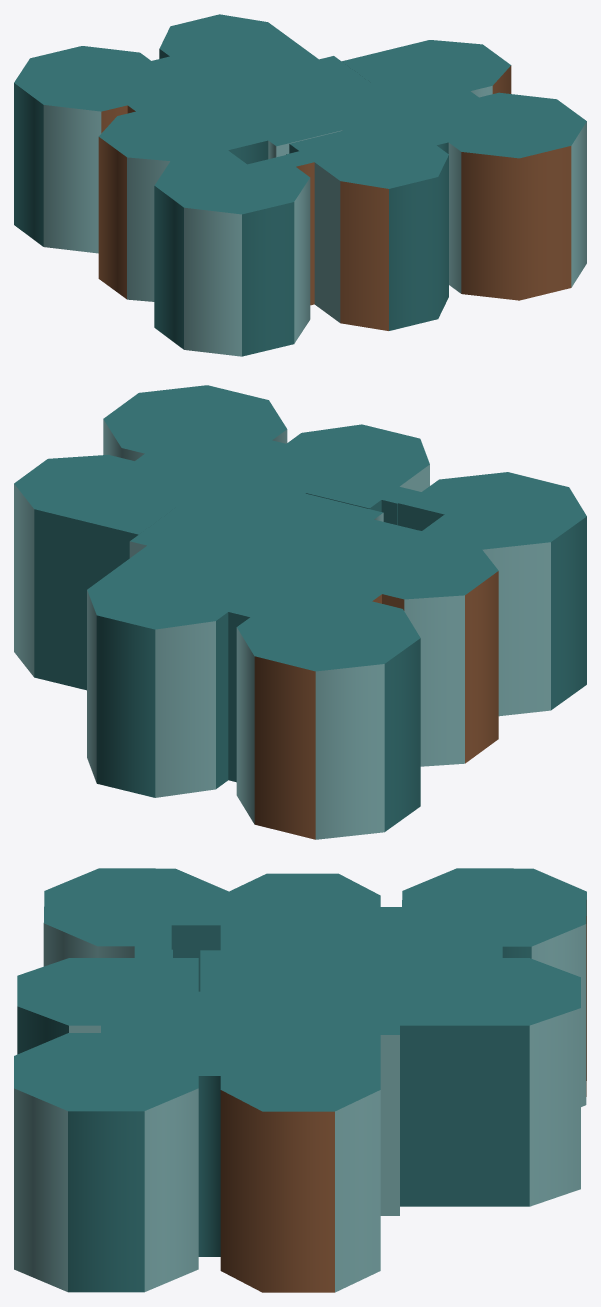
3 renders of one model, top to bottom at view 1: azimuth 30°, elevation 25°; view 2: azimuth 150°, elevation 25°; view 3: azimuth 270°, elevation 25°, orthographic. The views are drawn at different scales.
Parts seen in each view (by area): view 1: Box001; view 2: Box001; view 3: Box001.
Part boxes in pixels (x1=…): Box001: x1=14, y1=14, x2=586, y2=356; Box001: x1=14, y1=385, x2=586, y2=839; Box001: x1=14, y1=868, x2=586, y2=1292.
Size of the model in its own units: 113 by 39.37 by 113.
